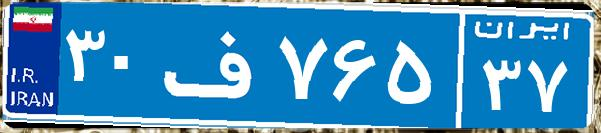0: (110, 28, 158, 105)
3: (57, 26, 110, 107), (475, 38, 525, 113)
5: (385, 28, 445, 110)
6: (330, 28, 385, 110)
7: (273, 28, 330, 110), (525, 38, 570, 115)
ف: (158, 15, 273, 115)
